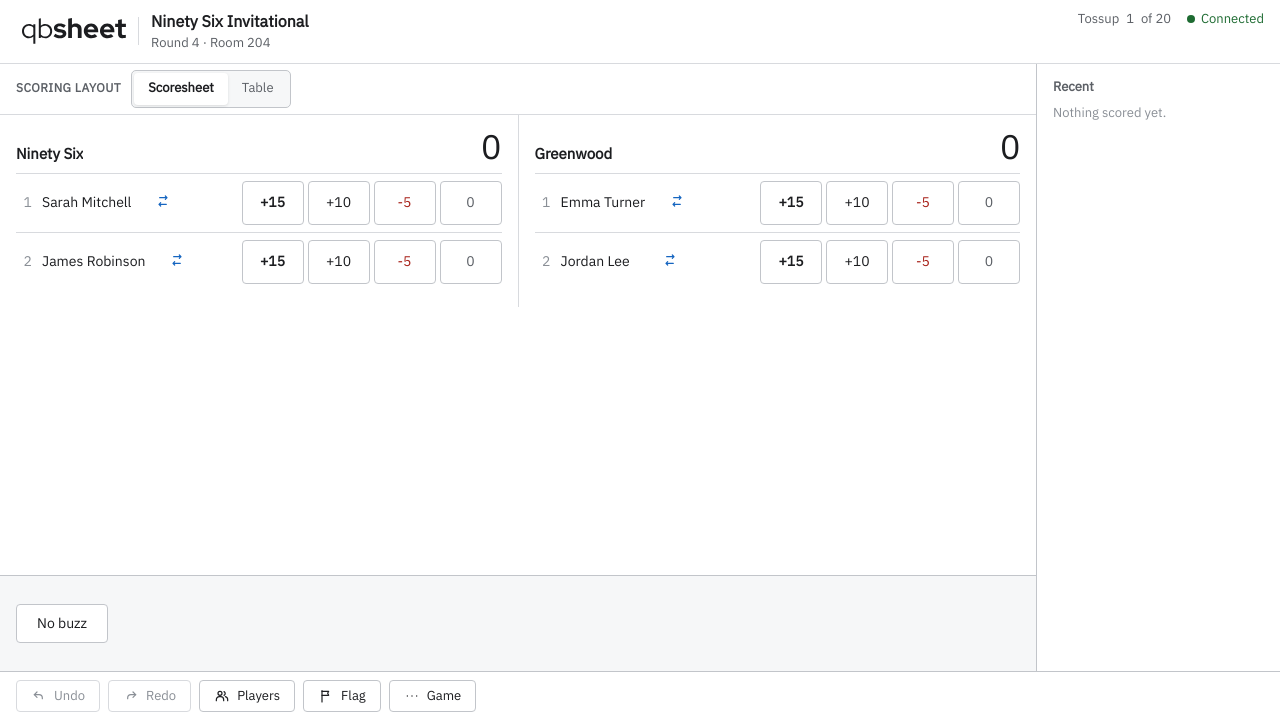
Scenario: scoring a tossup › a four-part bonus offers a fifth button
What coordinates should you click on to do the following:
click the button "+10" in the row of "Sarah Mitchell"
I would click on:
 (338, 203)
Its box is [308,181,370,225].
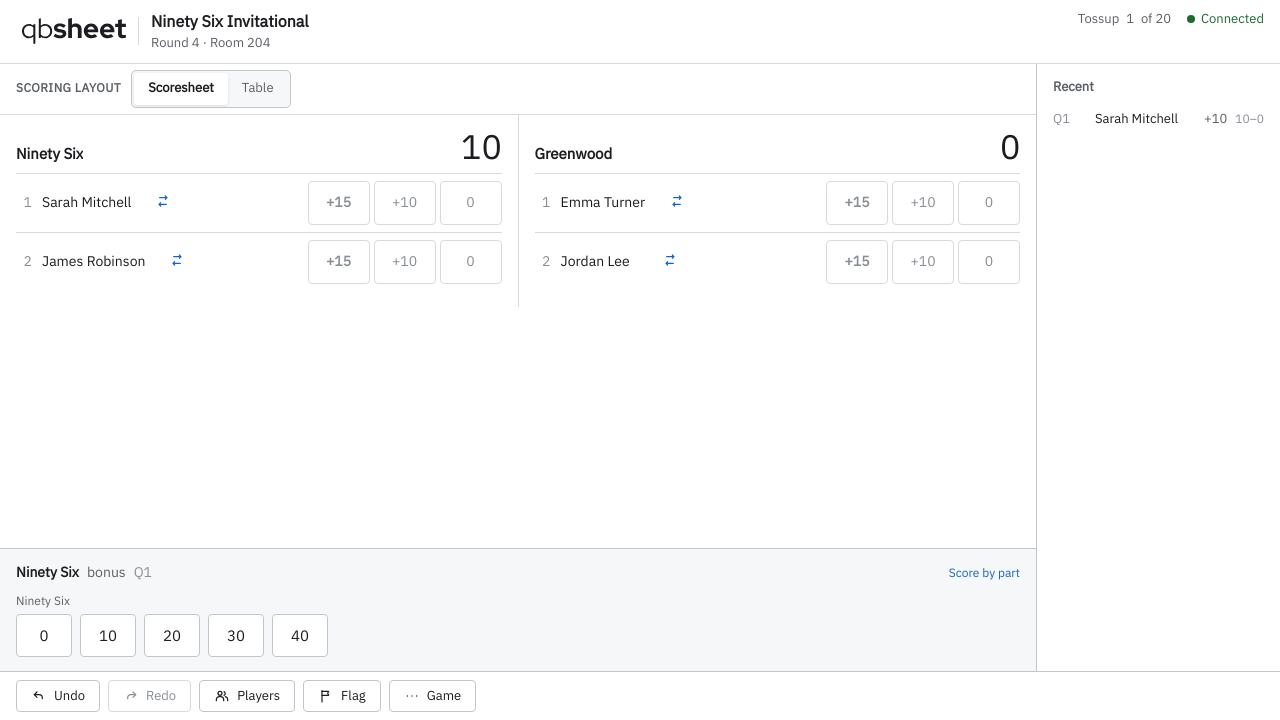
Expected: the buttons read "Score by part", "0", "10", "20", "30", "40", in this order, [949,565,1020,582]; [16,614,72,657]; [80,614,136,657]; [144,614,200,657]; [208,614,264,657]; [272,614,328,657]
